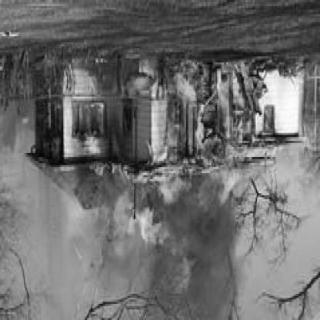Fire: (36, 54, 289, 294)
